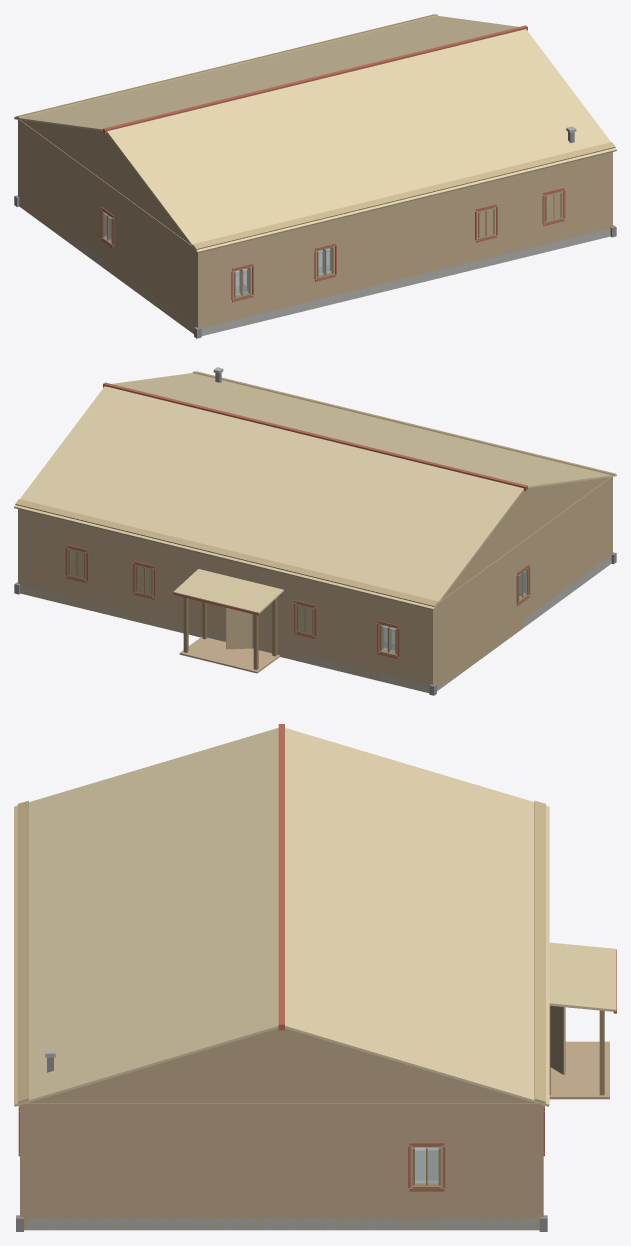
File: 18-Casas_casa_mediana.glb
3 views of the same model, one above another, from view 1: azimuth 30°, elevation 25°; view 2: azimuth 150°, elevation 25°; view 3: azimuth 270°, elevation 25° (orthographic). The views are drawn at different scales.
Parts seen in each view (by area): view 1: SM_Techo_Dos_Aguas, SM_Muro_B, SM_Muro_L, SM_Zocalo_Perimetro, SM_Fronton_I, SM_Ventana_B_0_Marco, SM_Ventana_B_1_Marco, SM_Ventana_B_3_Marco, SM_Ventana_L_Marco; view 2: SM_Techo_Dos_Aguas, SM_Muro_F, SM_Muro_L, SM_Fronton_I, SM_Zocalo_Perimetro, SM_Porche_Techo, SM_Porche_Piso, SM_Porche_Postes, SM_Puerta_Hoja, SM_Ventana_F_0_Marco, SM_Ventana_F_3_Marco, SM_Ventana_L_Marco (+1 smaller); view 3: SM_Techo_Dos_Aguas, SM_Muro_R, SM_Fronton_D, SM_Zocalo_Perimetro, SM_Porche_Techo, SM_Porche_Piso, SM_Puerta_Hoja, SM_Ventana_R_Marco, SM_Muro_F, SM_Ventana_R_Vidrio, SM_Muro_B, SM_Porche_Postes.
Part boxes in pixels (bbox=[...]): SM_Techo_Dos_Aguas: bbox=[14, 14, 616, 253]; SM_Muro_B: bbox=[195, 152, 612, 327]; SM_Muro_L: bbox=[20, 120, 201, 333]; SM_Zocalo_Perimetro: bbox=[14, 195, 616, 338]; SM_Fronton_I: bbox=[21, 120, 190, 244]; SM_Ventana_B_0_Marco: bbox=[231, 263, 253, 301]; SM_Ventana_B_1_Marco: bbox=[314, 243, 336, 281]; SM_Ventana_B_3_Marco: bbox=[542, 188, 565, 225]; SM_Ventana_L_Marco: bbox=[100, 207, 114, 248]; SM_Techo_Dos_Aguas: bbox=[14, 371, 616, 610]; SM_Muro_F: bbox=[22, 510, 435, 692]; SM_Muro_L: bbox=[429, 477, 612, 690]; SM_Fronton_I: bbox=[440, 477, 609, 601]; SM_Zocalo_Perimetro: bbox=[14, 552, 616, 695]; SM_Porche_Techo: bbox=[173, 569, 283, 615]; SM_Porche_Piso: bbox=[179, 636, 279, 673]; SM_Porche_Postes: bbox=[183, 597, 277, 669]; SM_Puerta_Hoja: bbox=[226, 607, 252, 649]; SM_Ventana_F_0_Marco: bbox=[377, 620, 399, 659]; SM_Ventana_F_3_Marco: bbox=[65, 545, 88, 582]; SM_Ventana_L_Marco: bbox=[516, 564, 530, 605]; SM_Techo_Dos_Aguas: bbox=[14, 724, 549, 1106]; SM_Muro_R: bbox=[20, 1103, 536, 1230]; SM_Fronton_D: bbox=[28, 1028, 535, 1103]; SM_Zocalo_Perimetro: bbox=[16, 1215, 547, 1231]; SM_Porche_Techo: bbox=[549, 942, 616, 1013]; SM_Porche_Piso: bbox=[549, 1041, 609, 1099]; SM_Puerta_Hoja: bbox=[550, 1006, 565, 1074]; SM_Ventana_R_Marco: bbox=[408, 1142, 445, 1191]; SM_Muro_F: bbox=[536, 1103, 543, 1230]; SM_Ventana_R_Vidrio: bbox=[415, 1147, 438, 1183]; SM_Muro_B: bbox=[20, 1103, 26, 1230]; SM_Porche_Postes: bbox=[549, 1006, 604, 1095].
Bounding box in the file's own units: 16.3 × 5.27 × 13.82.
